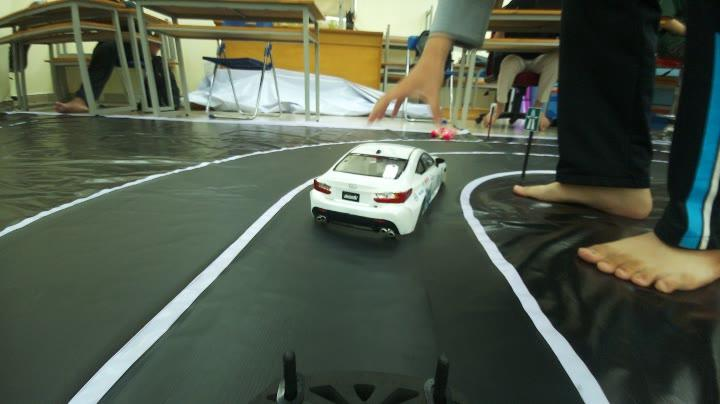car: (320, 124, 451, 246)
highway_entry: (516, 102, 546, 136)
